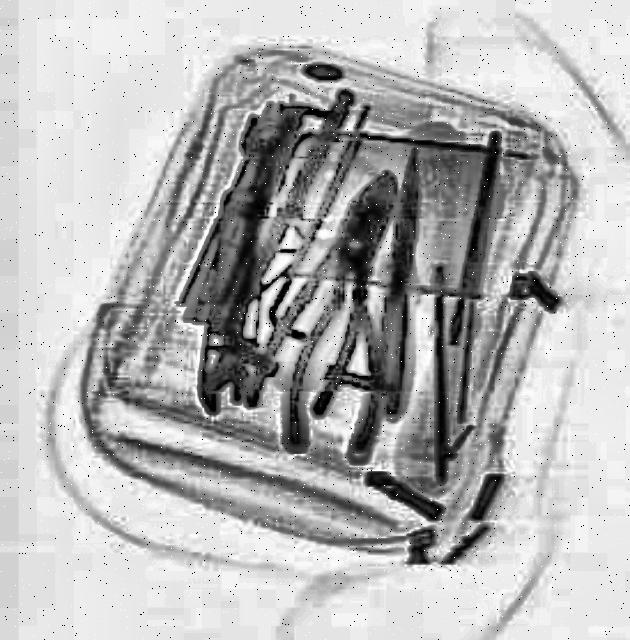Pliers: (228, 152, 428, 432), (278, 189, 398, 451)
Wrench: (193, 182, 266, 410), (233, 111, 289, 203)
